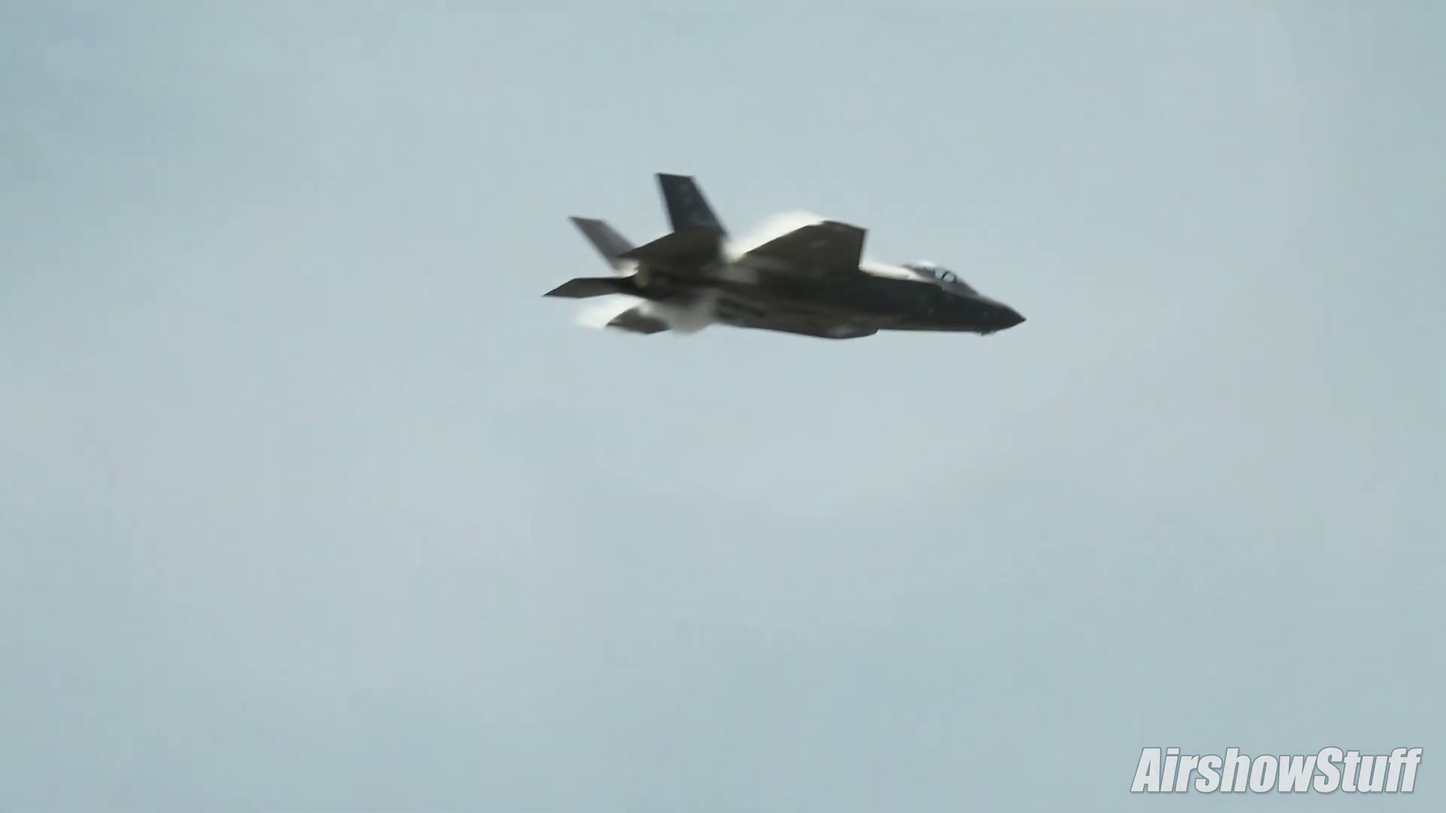F35: (535, 162, 1031, 357)
